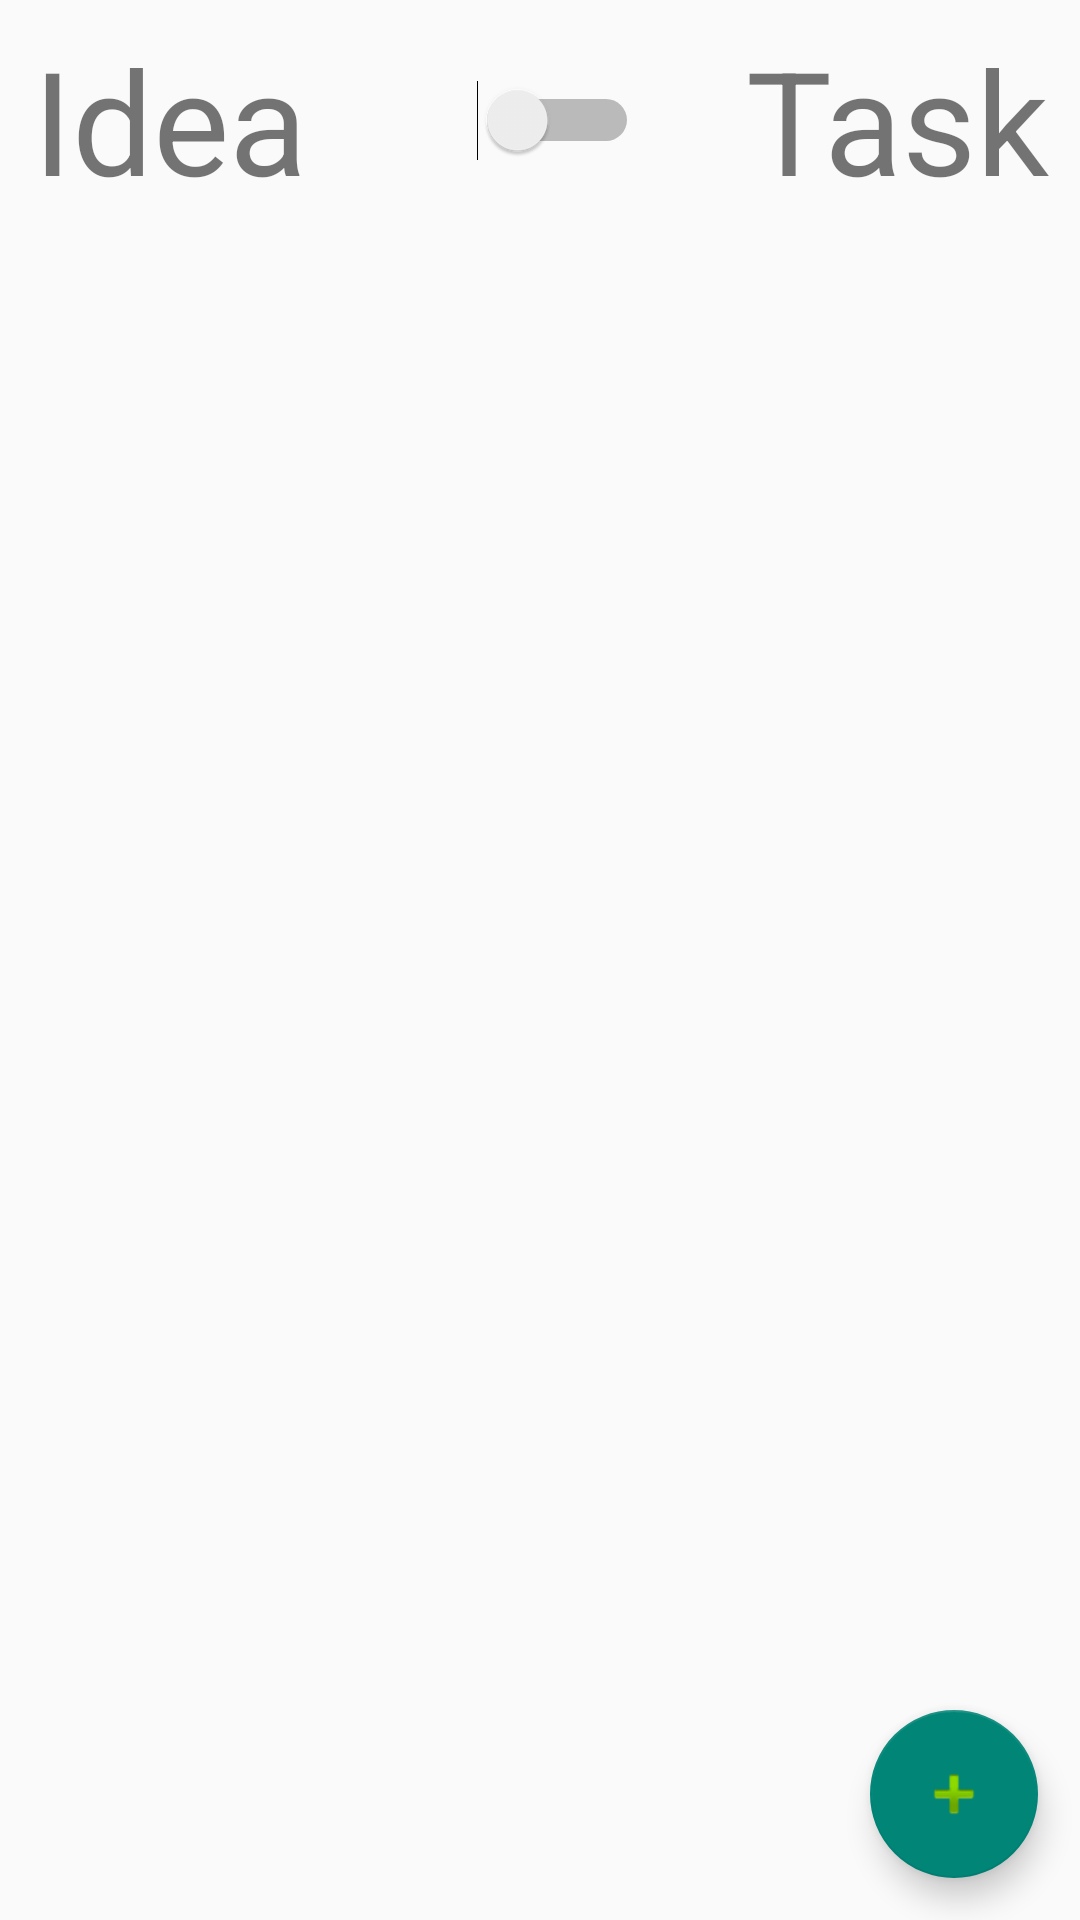

Icon click points for this 1080 × 1920 phone screenshot, format point (x, y):
add: point (954, 1794)
